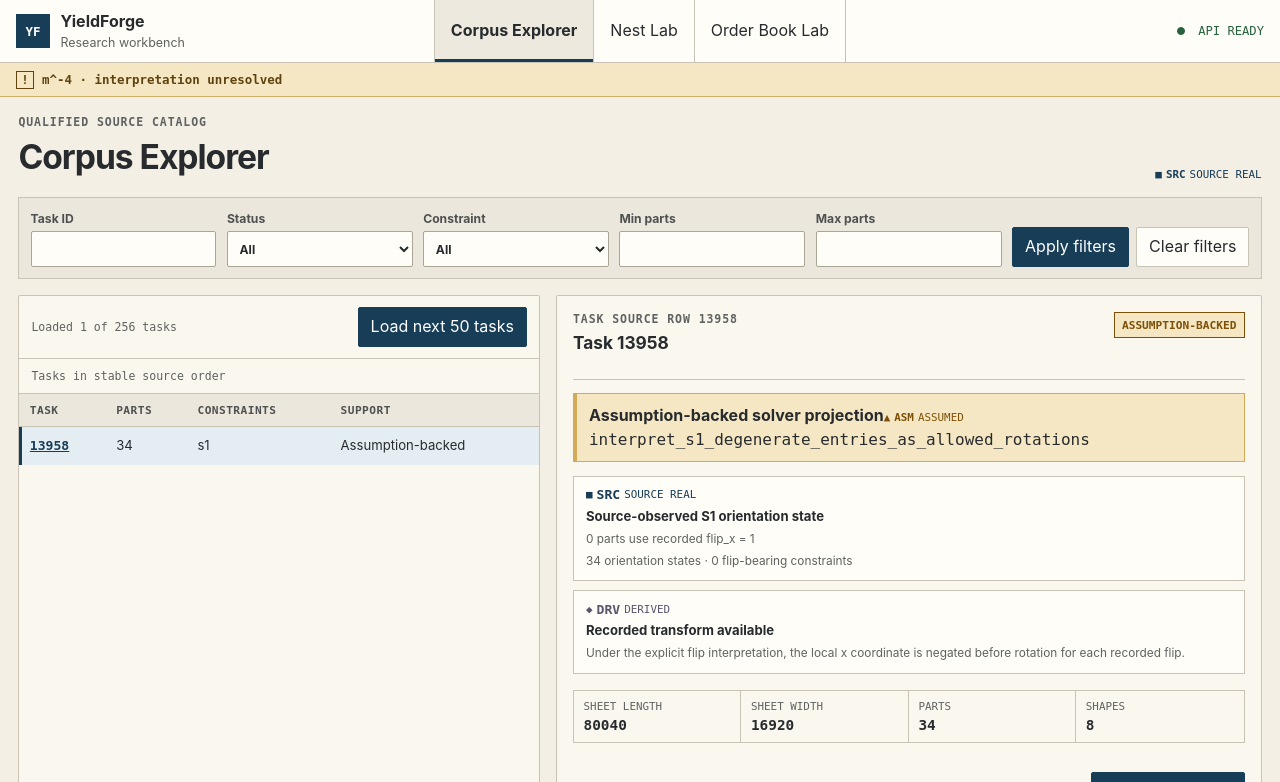
Test: research workbench › paginates with the exact active filters and keeps appended rows while selecting
The width and height of the screenshot is (1280, 782).
Expected: the text "Loaded 1 of 256 tasks" is shown, x1=31 y1=320 x2=177 y2=334
Select "s1 (66 rows)" in the dropdown labelled "Constraint" at (516, 249), box x1=423 y1=231 x2=609 y2=267
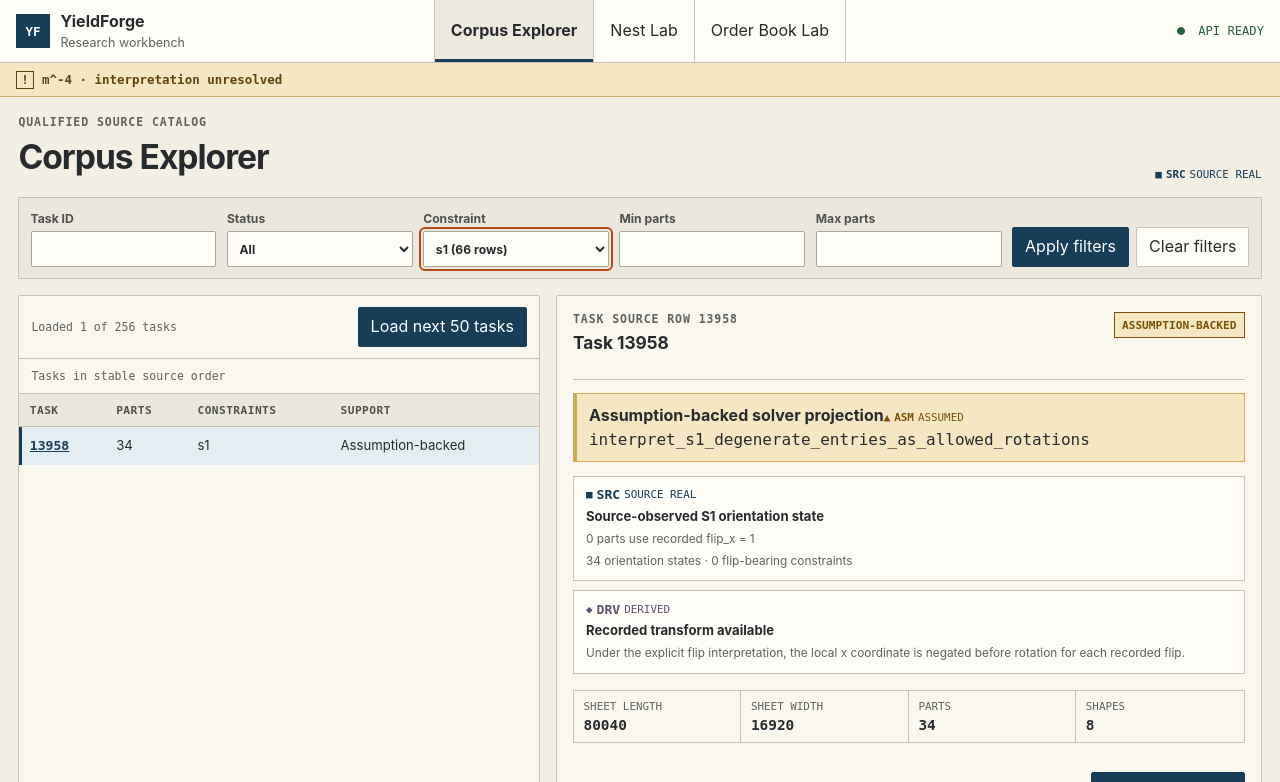
Click the button "Apply filters" at (1071, 247), box x1=1012 y1=227 x2=1129 y2=267
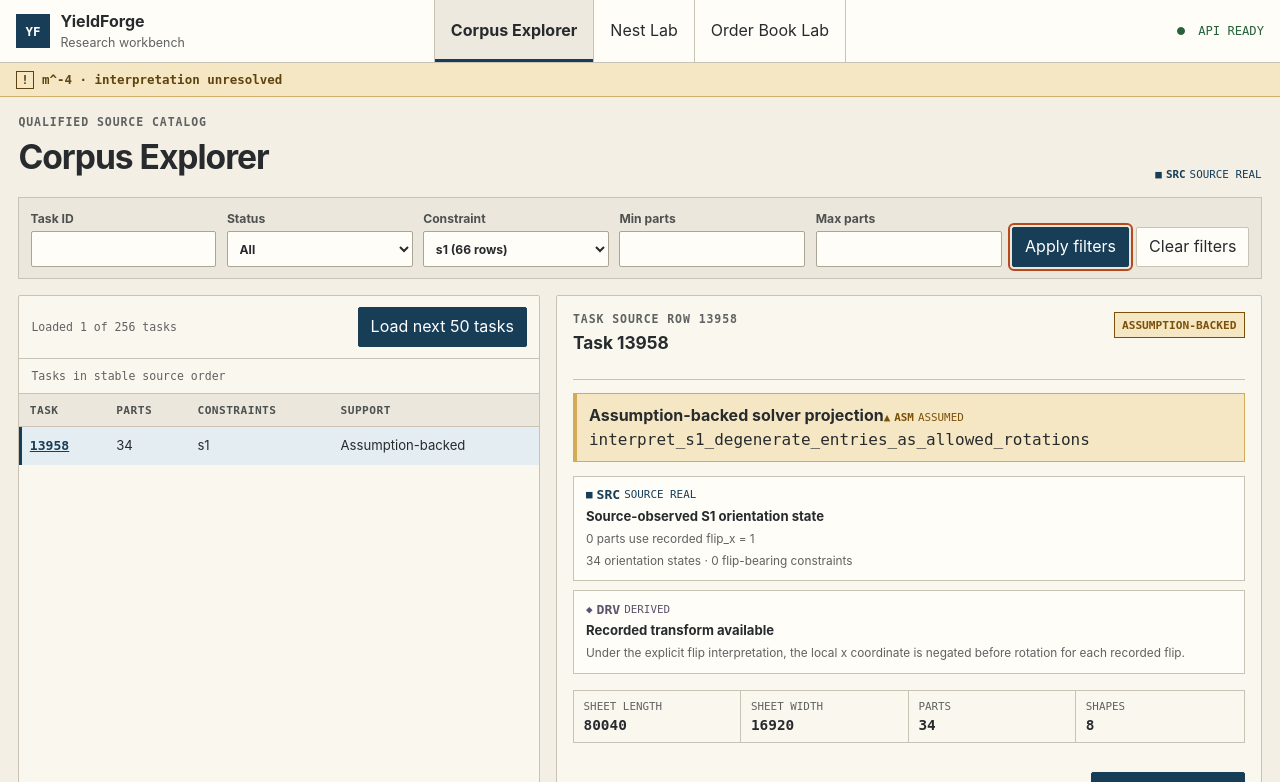
Click the button "Load next 50 tasks" at (442, 327), box x1=358 y1=307 x2=527 y2=347
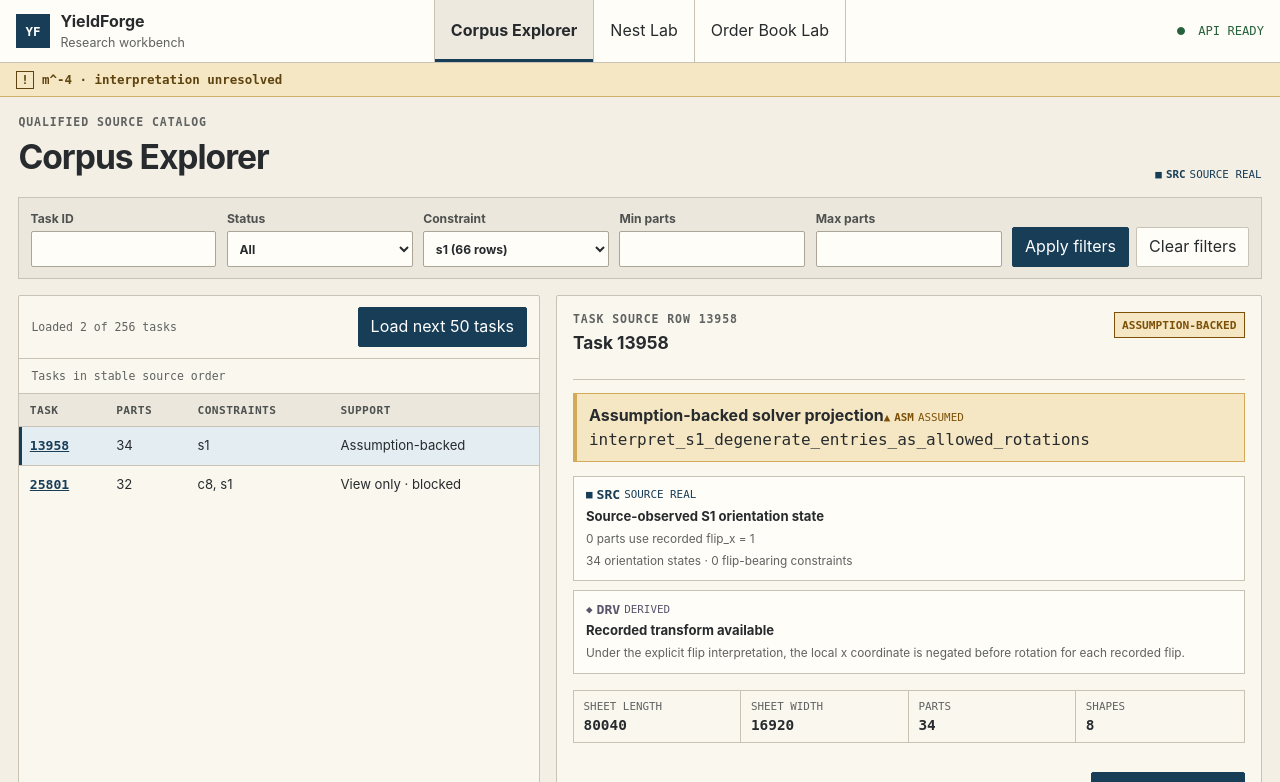
Result: the text "Loaded 2 of 256 tasks" is shown at x1=31 y1=320 x2=177 y2=334
Result: the number of buttons "13958" is 1 at x1=30 y1=438 x2=69 y2=453
Click the button "25801" at (50, 484), box x1=30 y1=477 x2=69 y2=492
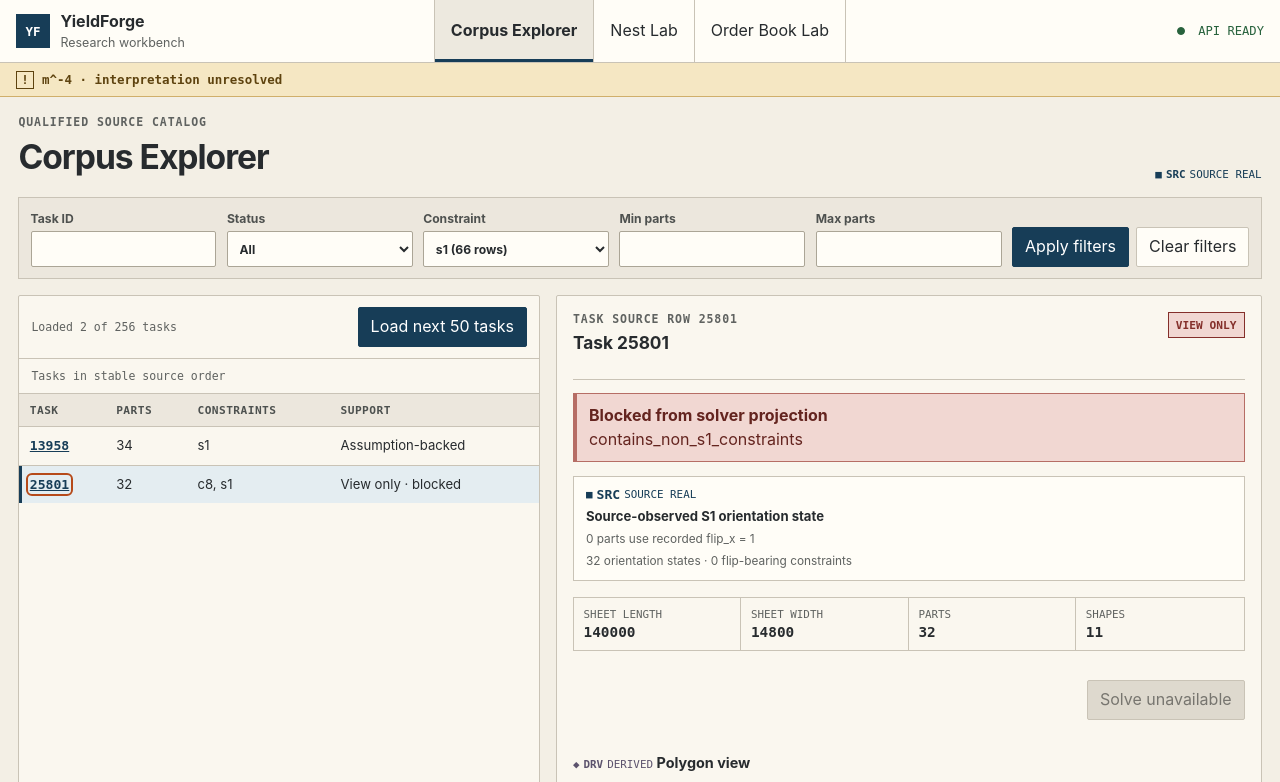
Result: the heading "Task 25801" is shown at x1=573 y1=332 x2=669 y2=352
